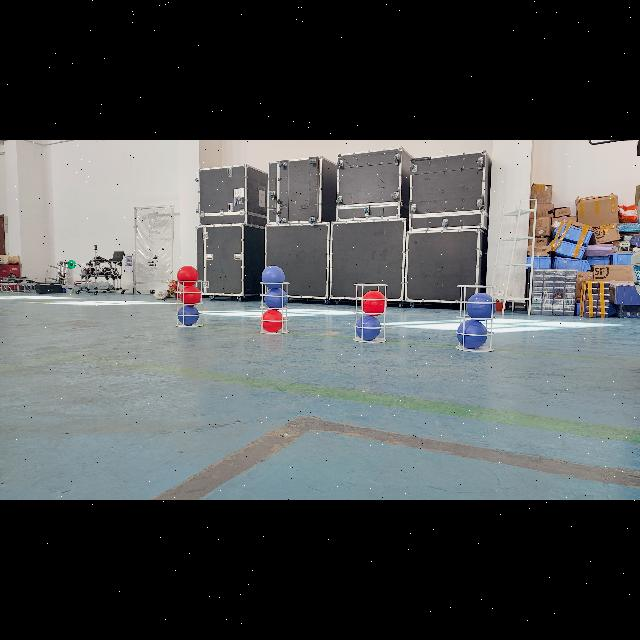B: (454, 320, 490, 350), (467, 294, 495, 322), (355, 315, 381, 341), (262, 266, 286, 288), (266, 287, 288, 309), (178, 305, 200, 325)
R: (361, 290, 387, 316), (260, 309, 284, 333), (177, 266, 199, 286), (180, 285, 200, 305)
S: (454, 282, 502, 352), (350, 282, 390, 344), (256, 280, 292, 336), (172, 278, 210, 328)
